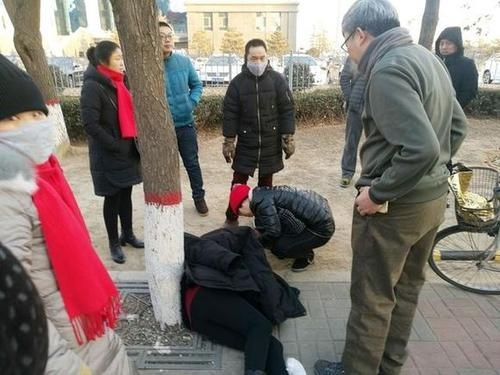falling: (169, 220, 319, 375)
